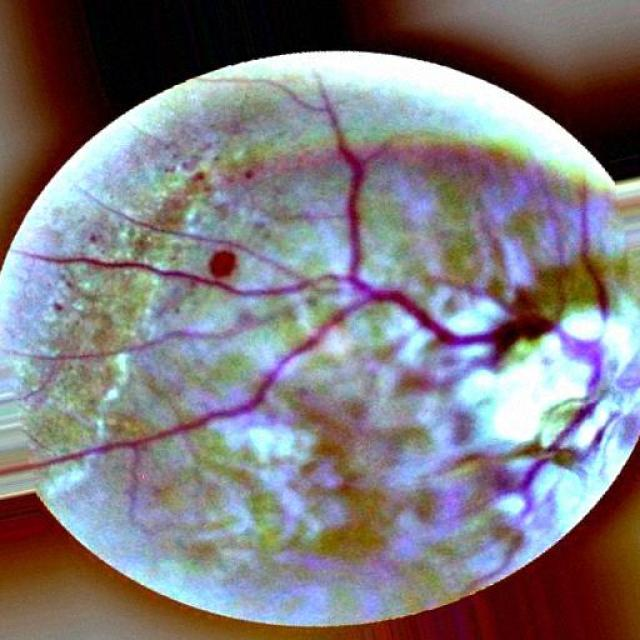Macula: (209, 250, 236, 278)
Nerves: (0, 91, 605, 475), (19, 314, 270, 364), (579, 189, 609, 324)
